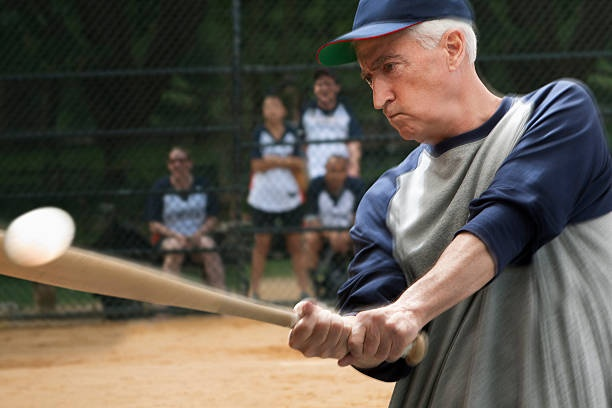bita: (1, 229, 421, 359)
